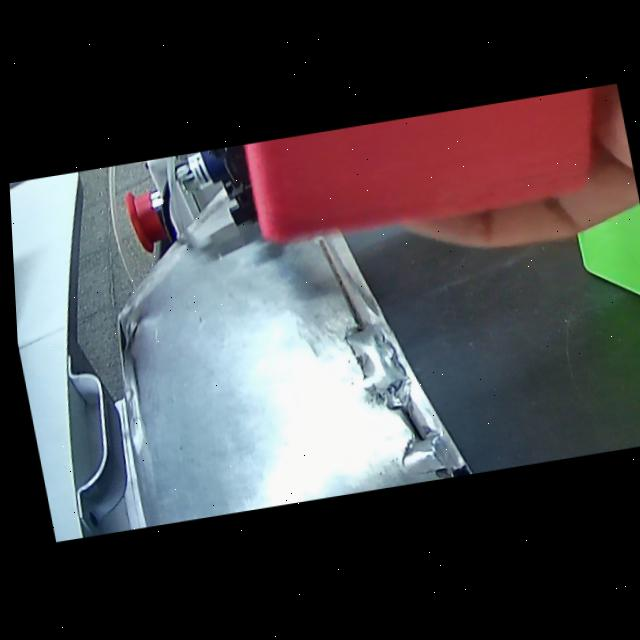greenBox: (550, 125, 640, 396)
redBox: (237, 88, 628, 261)
